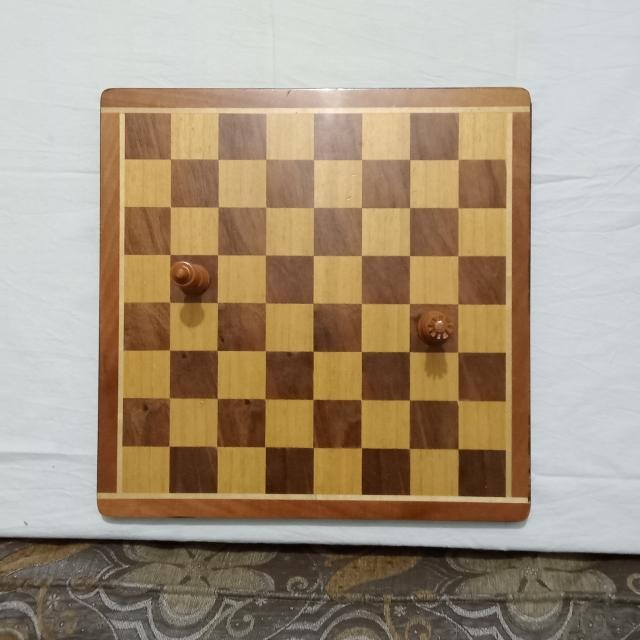white-king: (170, 259, 212, 297)
white-queen: (413, 305, 457, 346)
